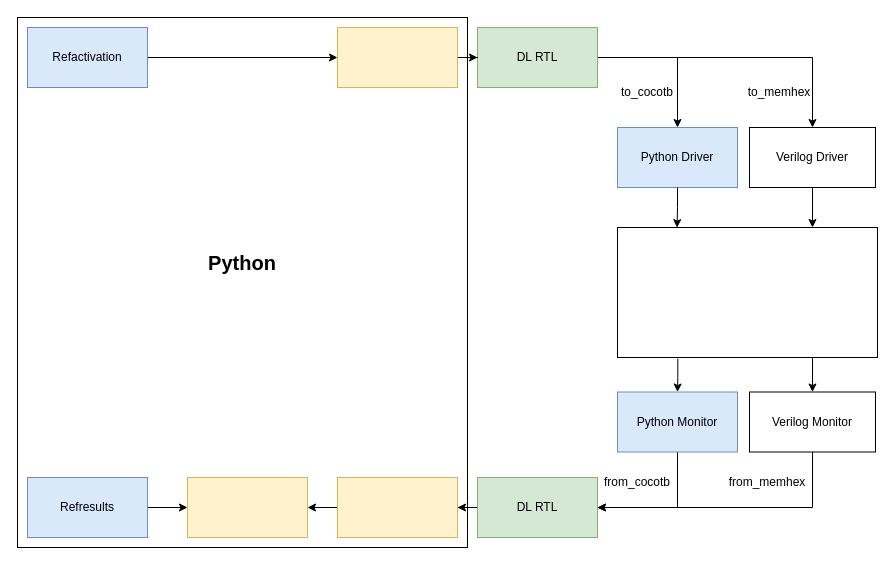
This 895x565 diagram has some shape labels left out. Here are the shapes that lost their labels. From the top down, the centre of each, then its label:
(397,57): Data Preprocess
(747,292): RTL (Verilog)
(247,507): Scoreboard
(397,507): Data Postprocess
